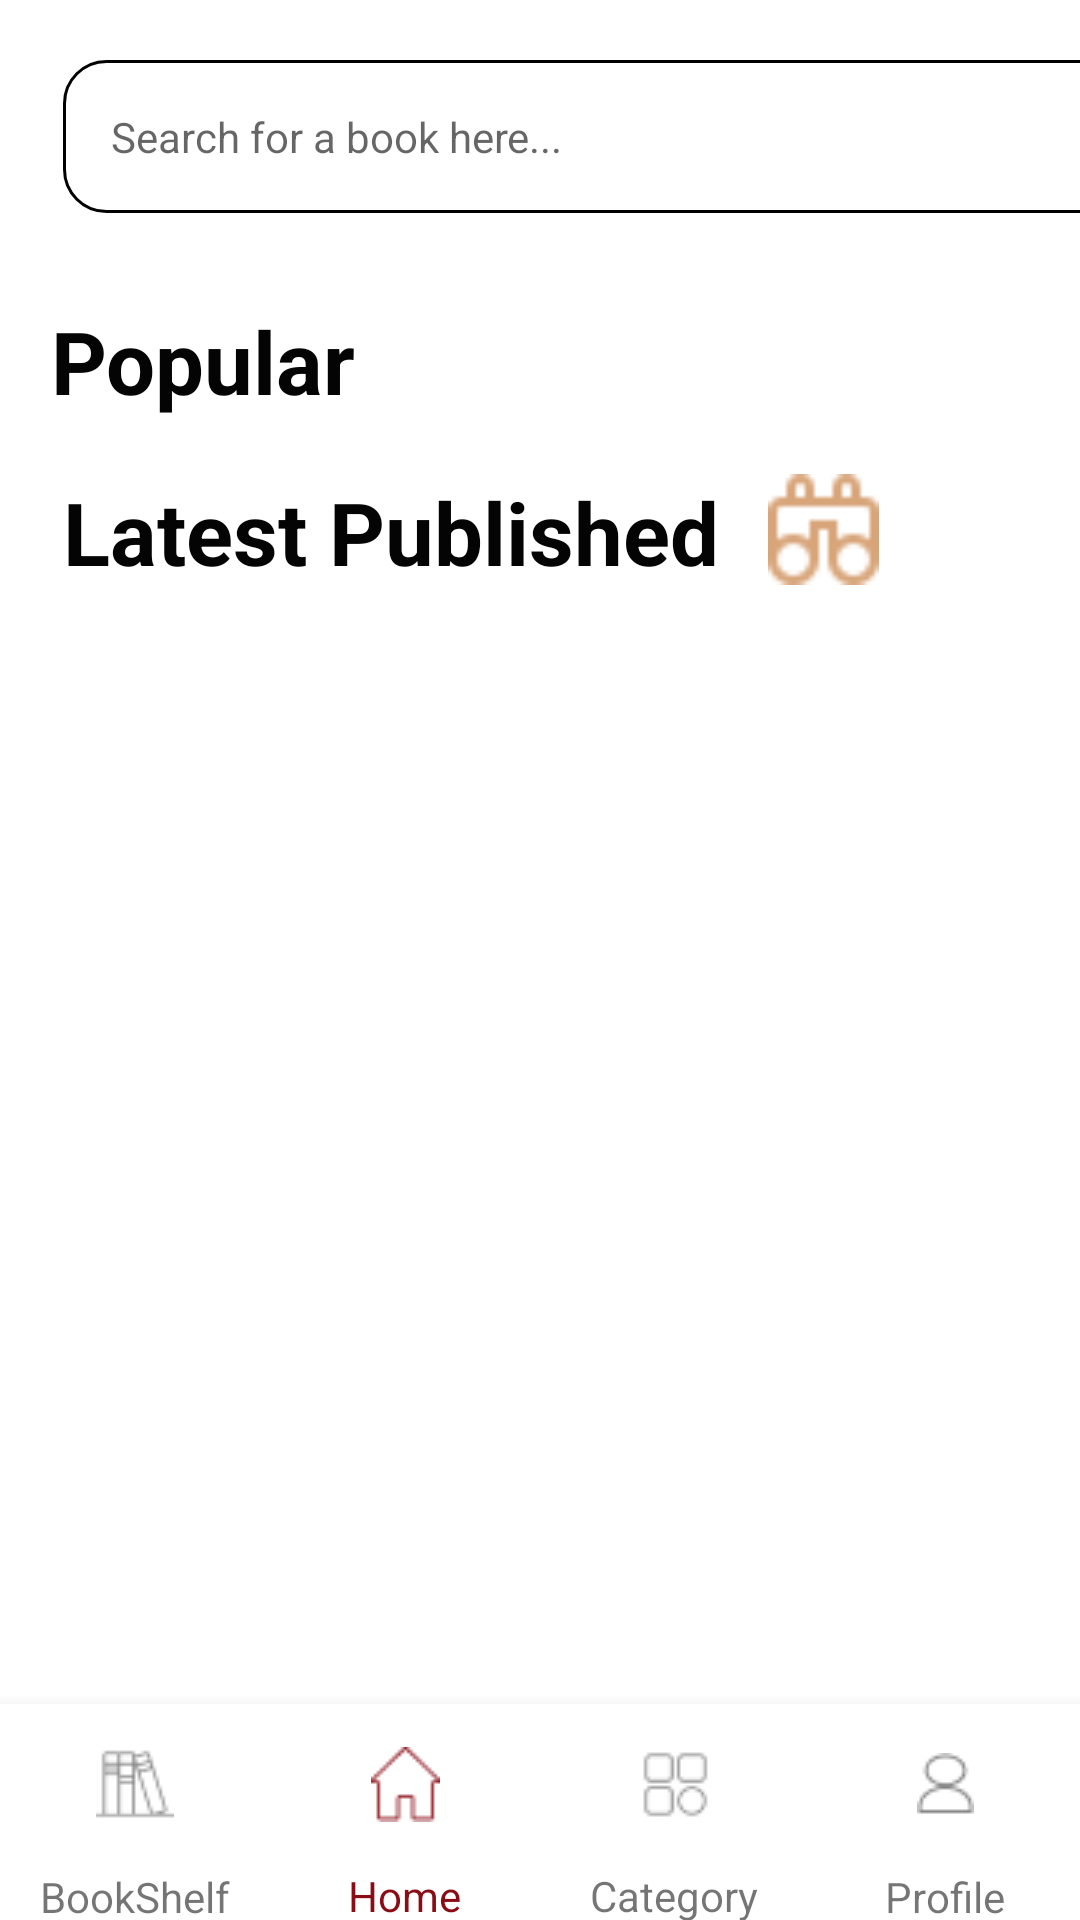

Icon bounding boxes for this 1080px x 1920px phone screenshot, format [left=x1, top=y1, right=x2, bottom=y2]:
binoculars: [left=768, top=474, right=879, bottom=585]
